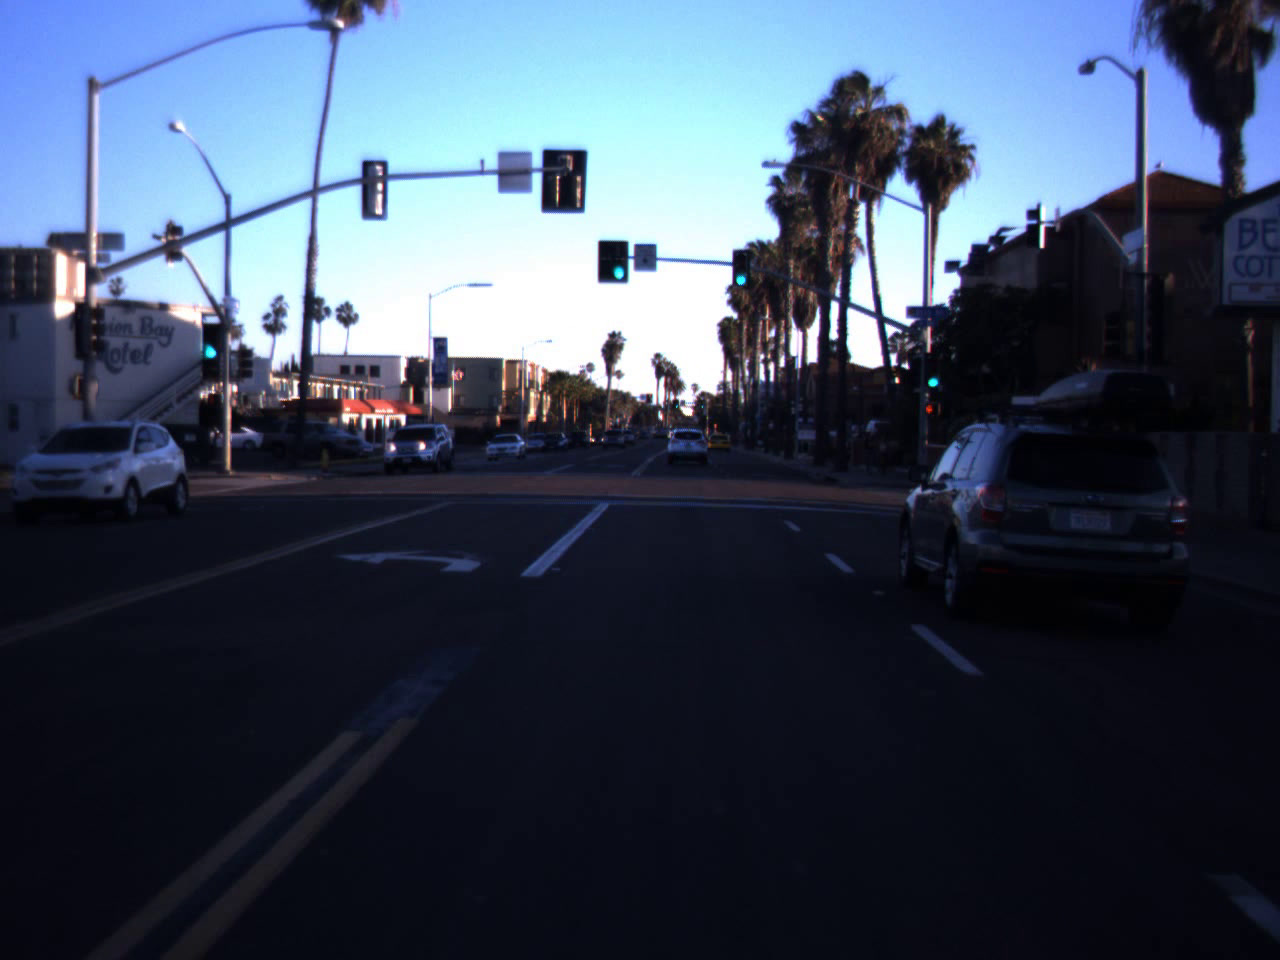go: (196, 304, 226, 364), (607, 233, 631, 283), (729, 244, 753, 289), (921, 354, 945, 389)
